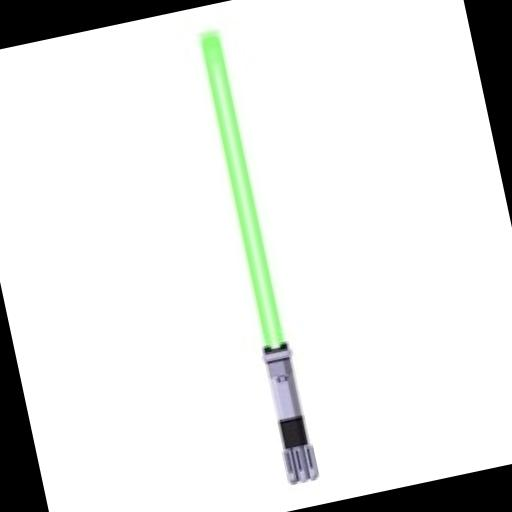lightsaber: (188, 30, 322, 486)
